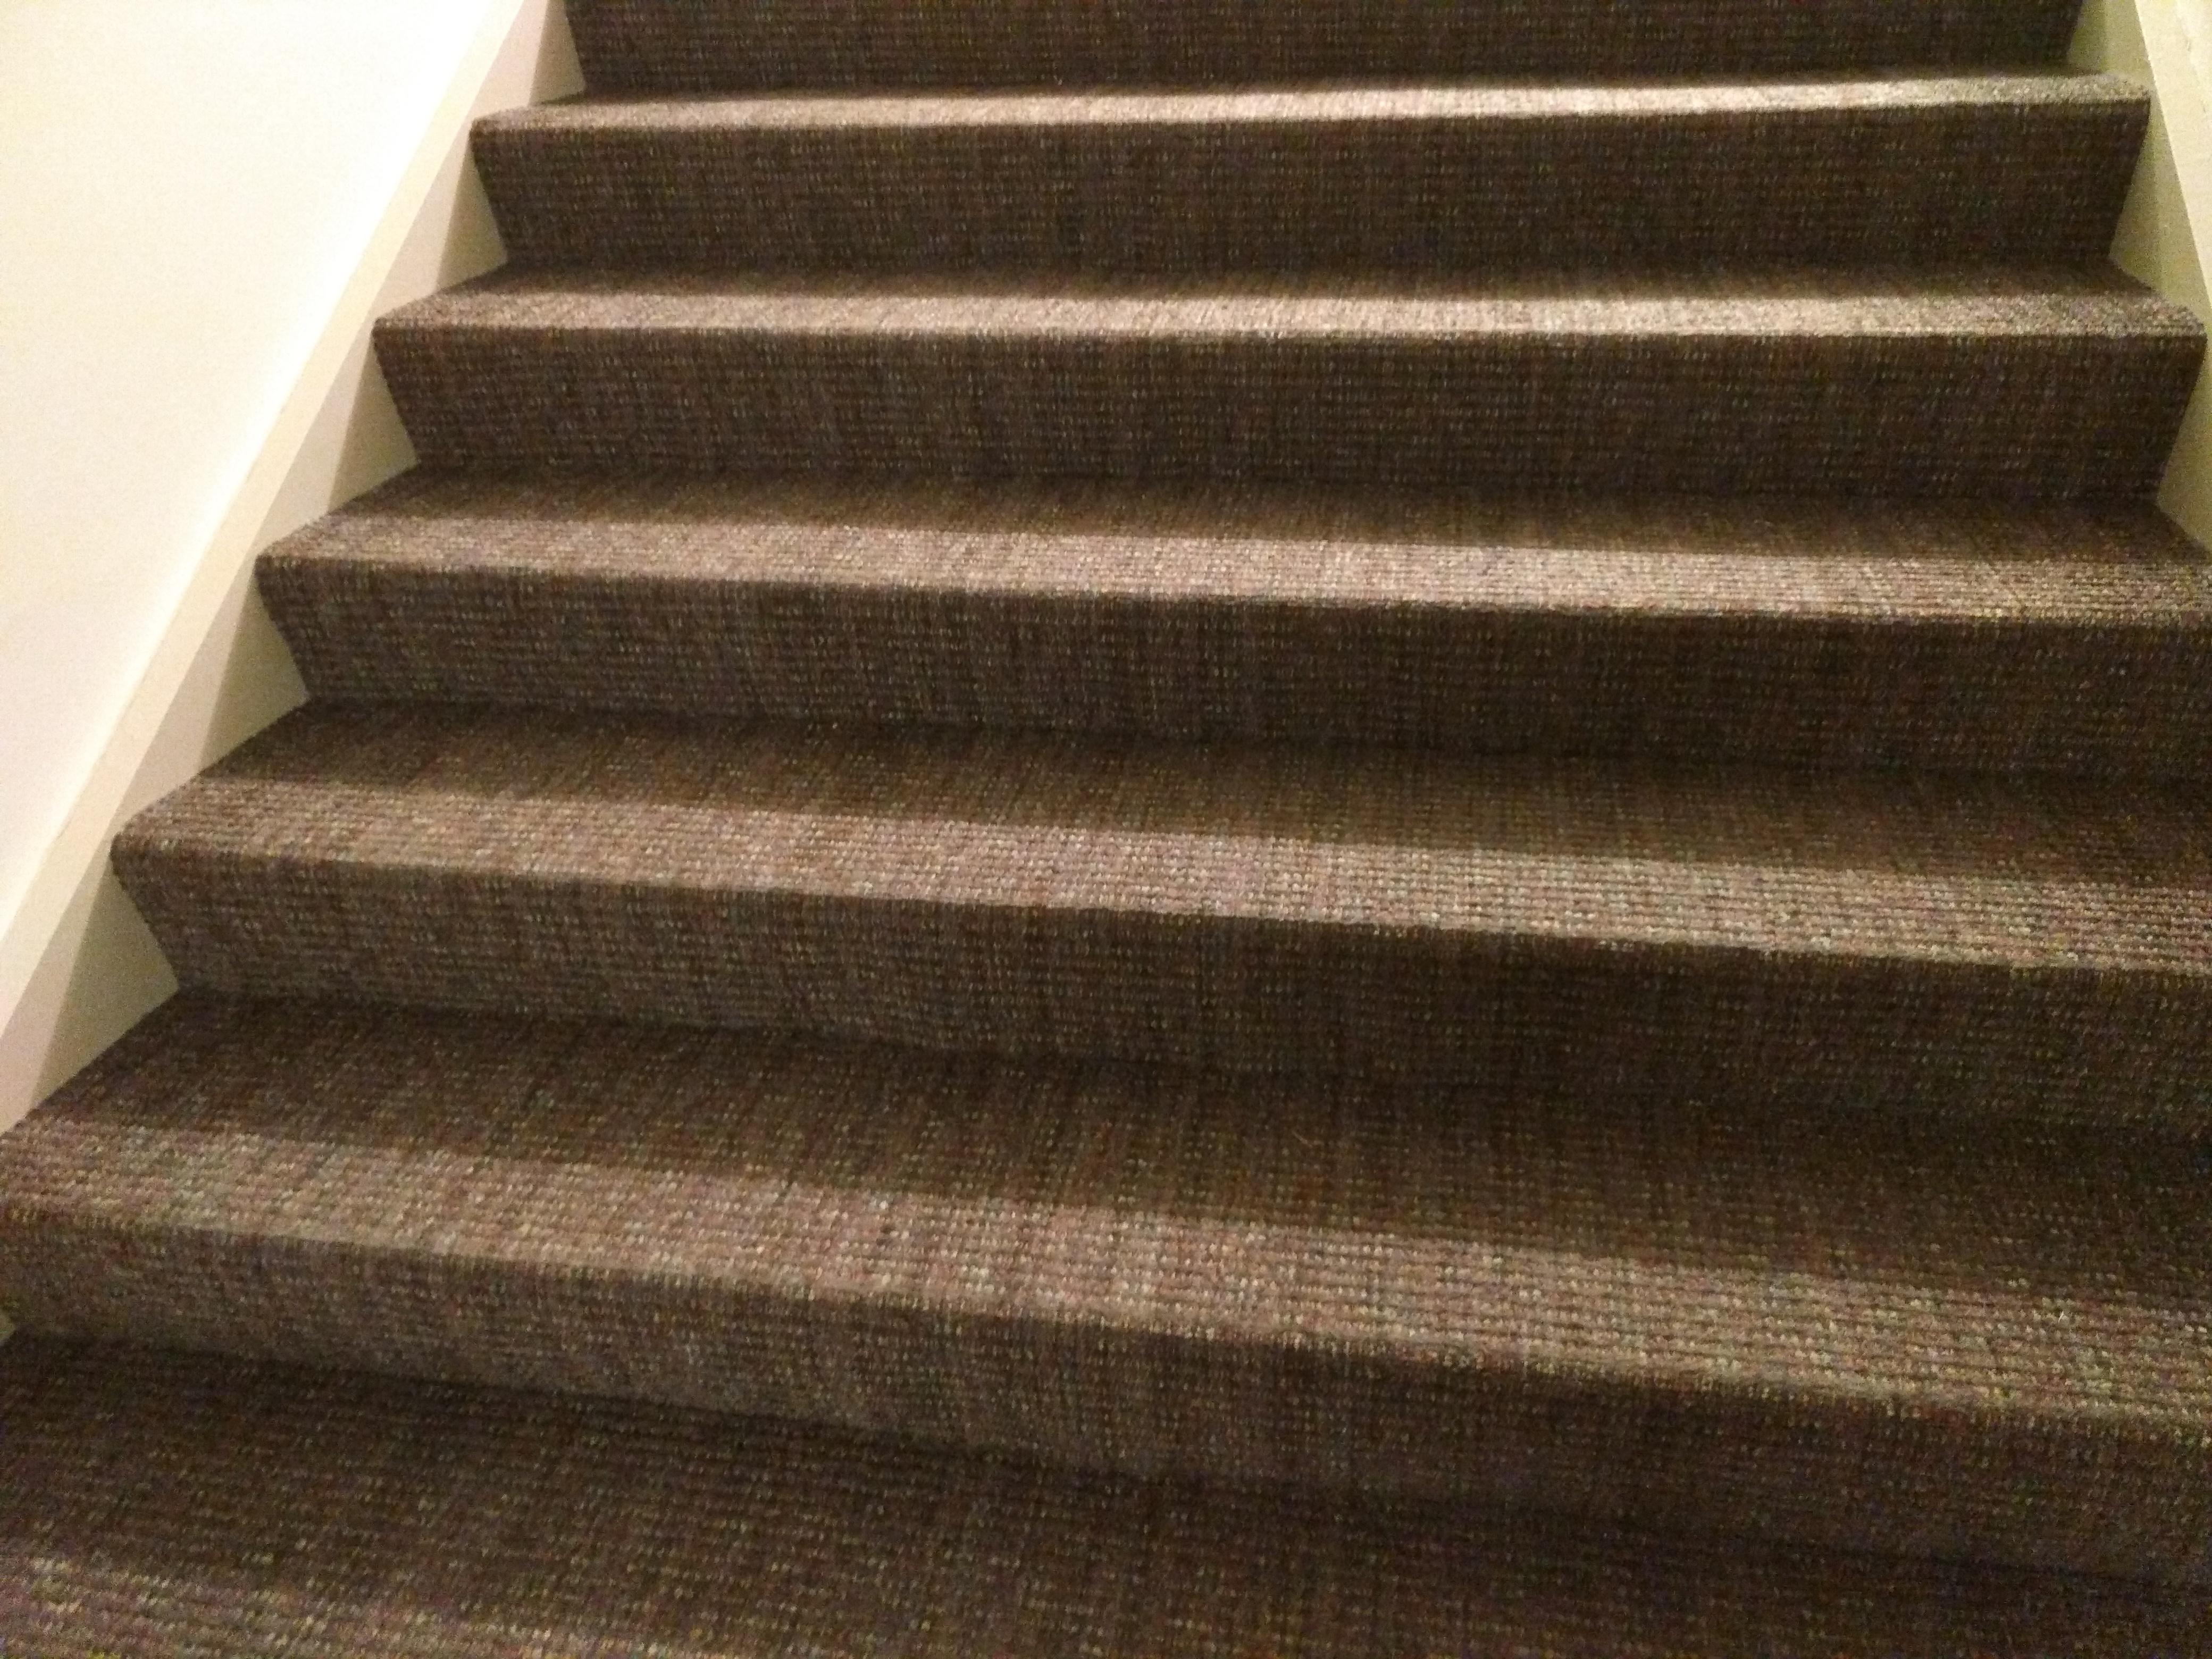stairs_up: (16, 16, 2212, 1574)
